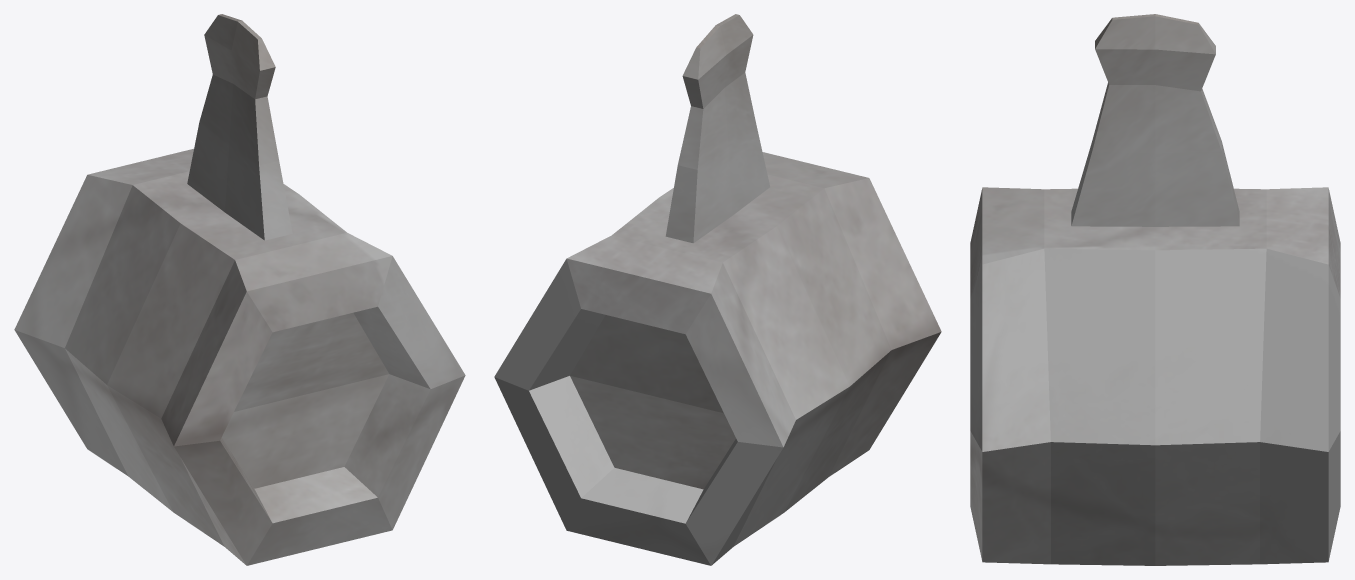
The model's file is 3DObj_Bone_V2.fbx.
The picture shows the model from 3 angles, left to right: view 1: azimuth 30°, elevation 25°; view 2: azimuth 150°, elevation 25°; view 3: azimuth 270°, elevation 25°; orthographic projection. The views are drawn at different scales.
Visible parts, largest first — view 1: 3DObj_Bone_V2; view 2: 3DObj_Bone_V2; view 3: 3DObj_Bone_V2.
Part boxes in pixels (left/top/right/bottom): 3DObj_Bone_V2: left=14, top=14, right=465, bottom=565; 3DObj_Bone_V2: left=494, top=14, right=941, bottom=565; 3DObj_Bone_V2: left=970, top=14, right=1340, bottom=565.
Bounding box in the file's own units: 101 × 156 × 102.
1 material, 1 textured.
